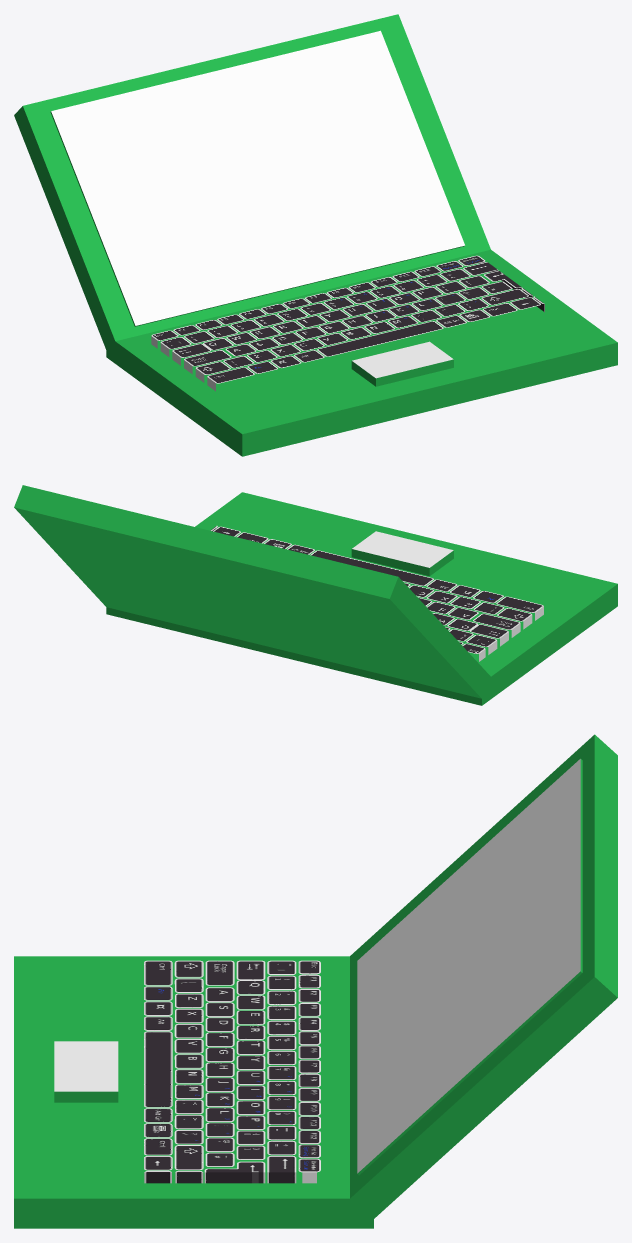
File: BasicLaptop.fbx
3 views of the same model, one above another, from view 1: azimuth 30°, elevation 25°; view 2: azimuth 150°, elevation 25°; view 3: azimuth 270°, elevation 25° (orthographic). The views are drawn at different scales.
Parts seen in each view (by area): view 1: node_id13 (×3), node_id7 (×2), node_id10 (×2); view 2: node_id13 (×3), node_id10 (×2); view 3: node_id13 (×3), node_id7 (×2), node_id10 (×2).
Boxes of the visible parts, x1=… form: node_id13 (×3): x1=14, y1=14, x2=617, y2=456; node_id7 (×2): x1=50, y1=30, x2=464, y2=326; node_id10 (×2): x1=351, y1=341, x2=453, y2=386; node_id13 (×3): x1=14, y1=485, x2=617, y2=705; node_id10 (×2): x1=351, y1=531, x2=453, y2=576; node_id13 (×3): x1=14, y1=734, x2=617, y2=1228; node_id7 (×2): x1=357, y1=759, x2=582, y2=1175; node_id10 (×2): x1=54, y1=1041, x2=118, y2=1102.
Size of the model in its own units: 0.512 by 0.2478 by 0.5389.
Materials: 7 (1 with a texture image).
